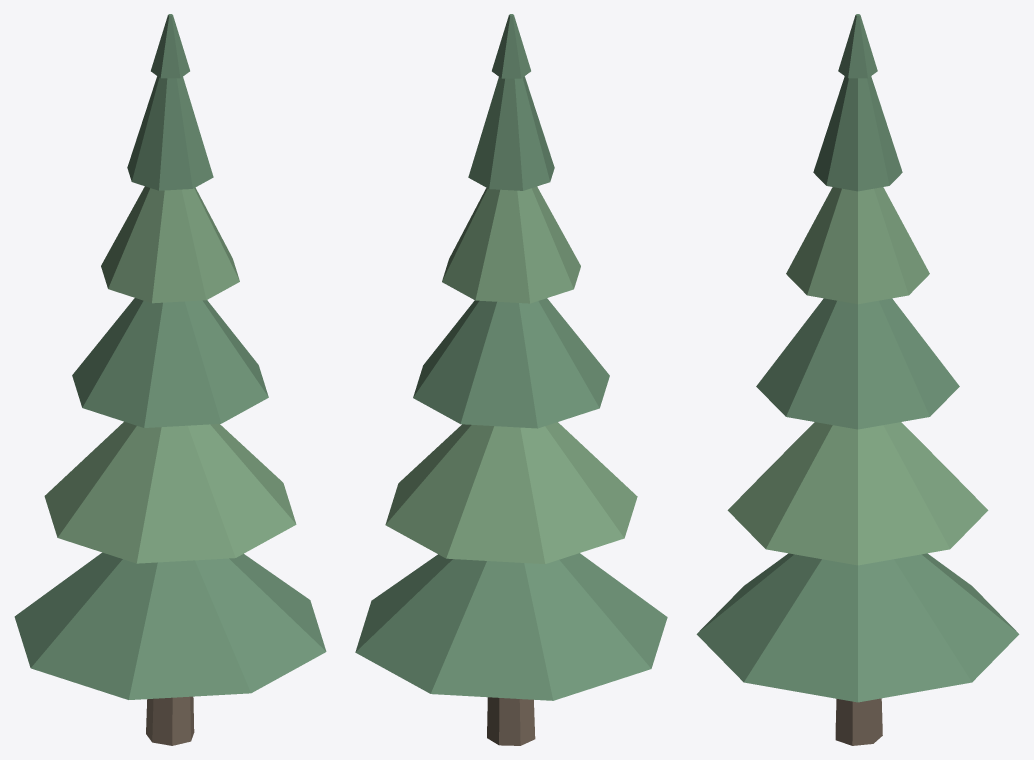
Rendered from tree_pine.glb.
3 views of the same model, side by side, from view 1: azimuth 30°, elevation 25°; view 2: azimuth 150°, elevation 25°; view 3: azimuth 270°, elevation 25° (orthographic).
Visible parts, largest first — view 1: lod0; view 2: lod0; view 3: lod0.
Boxes of the visible parts, bbox=[...] form: lod0: bbox=[14, 14, 326, 745]; lod0: bbox=[355, 14, 667, 745]; lod0: bbox=[696, 14, 1019, 745].
Size of what is drawn, in the model's own units: 2.6 by 6.4 by 2.6.
